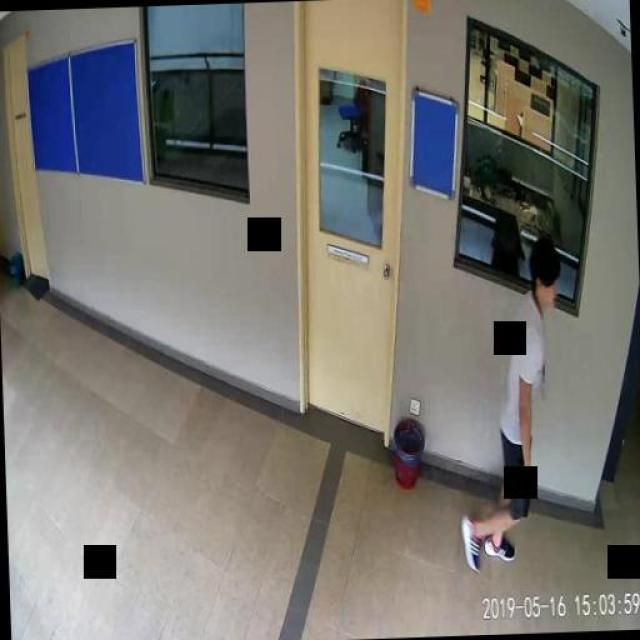gun: (518, 462, 534, 516)
